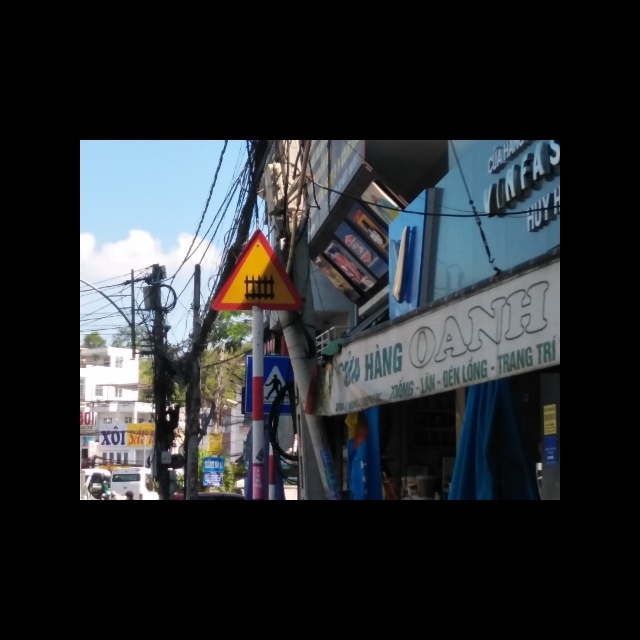Giao nhau với đường sắt có rào chắn: (210, 228, 307, 312)
